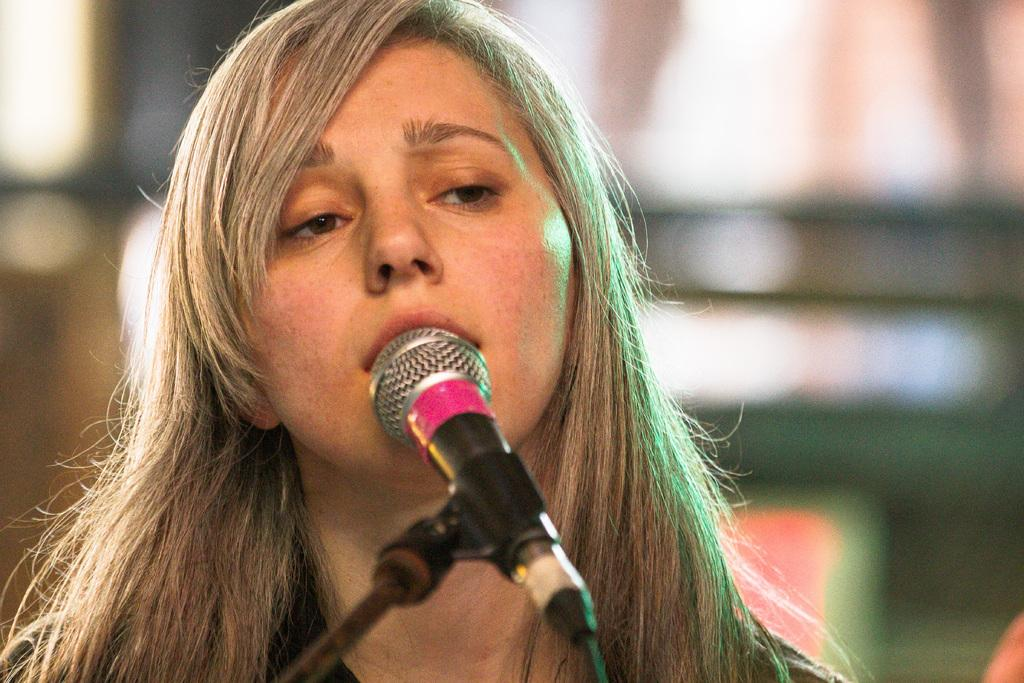Sem Máscara: (229, 27, 587, 483)
